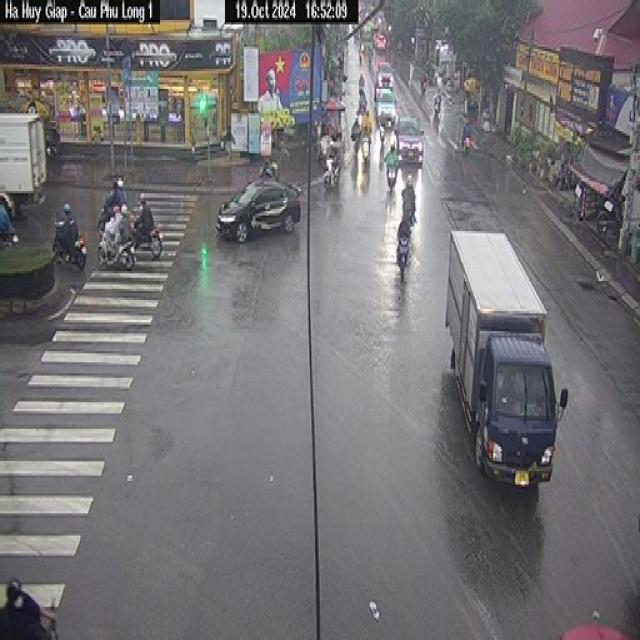car: (212, 182, 308, 238), (395, 115, 426, 168), (373, 89, 398, 124), (373, 60, 397, 89)
motorcycle: (52, 221, 88, 265), (128, 222, 170, 258), (98, 228, 133, 266), (97, 197, 124, 226), (394, 238, 414, 274), (382, 162, 399, 191), (359, 134, 376, 161), (324, 159, 339, 187), (460, 135, 476, 159), (433, 103, 445, 115), (419, 84, 429, 93)
person: (4, 573, 32, 624), (134, 191, 157, 226), (108, 204, 131, 232), (59, 199, 75, 230), (398, 210, 413, 241), (110, 173, 126, 198), (404, 177, 418, 204), (388, 142, 401, 168), (328, 147, 342, 169), (361, 109, 372, 124), (464, 117, 472, 135), (434, 92, 443, 105), (422, 74, 428, 88)
truck: (442, 223, 564, 499), (0, 99, 50, 210)
